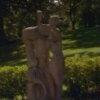Statue: (17, 7, 71, 92)
